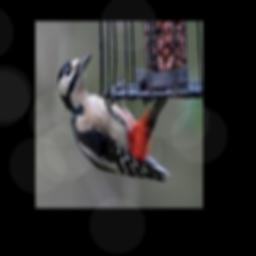Woodpecker: (58, 53, 170, 182)
